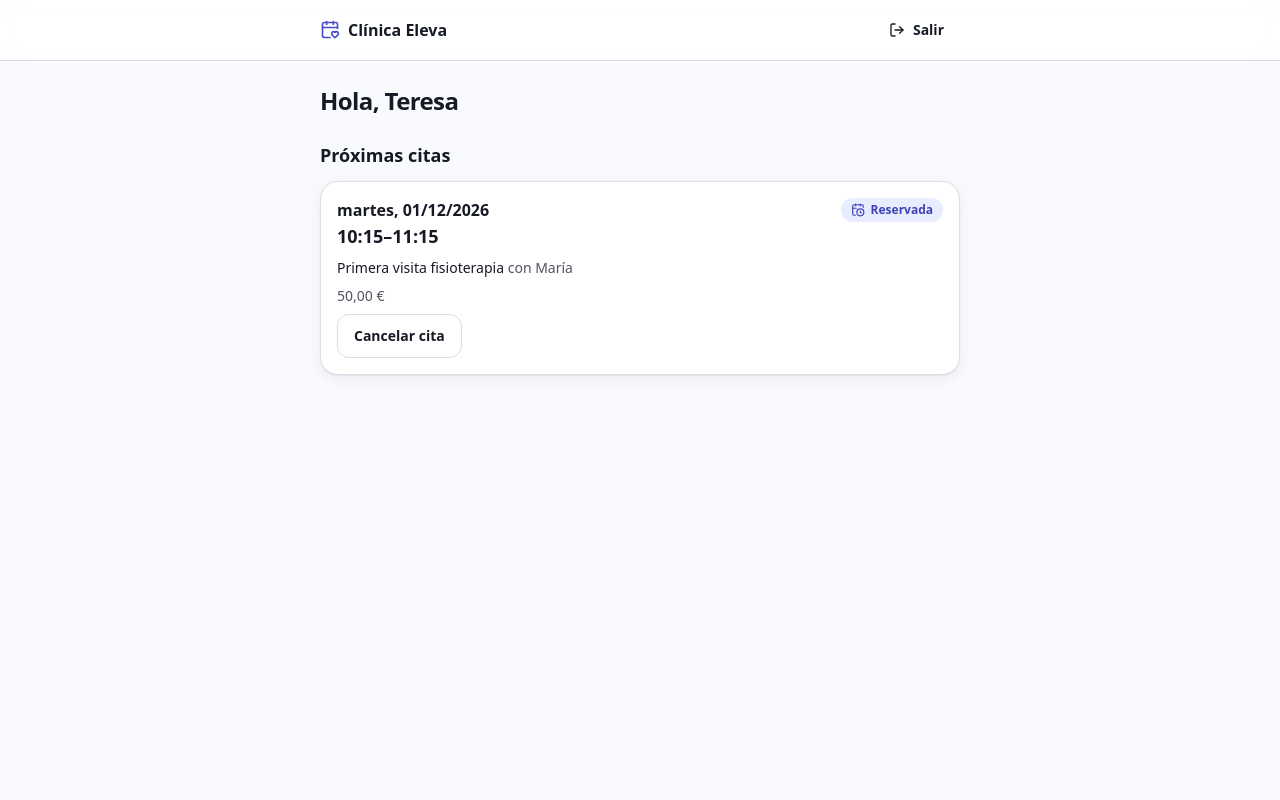
Test: AppPortal › [002][US1-AC6] «Salir» cierra la sesión del portal y vuelve a la entrada
Click the button "Salir" at (916, 30), box [873,8,960,52]
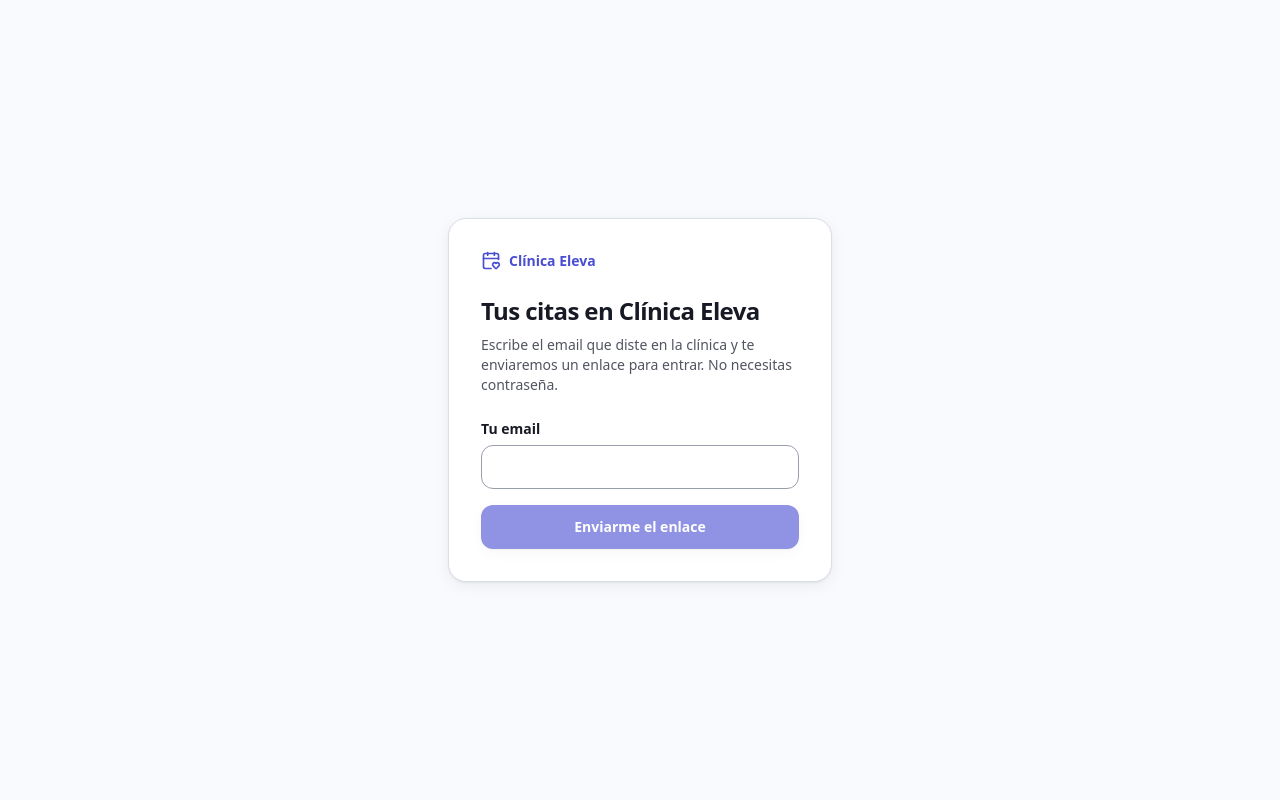
Check: the field labelled "Tu email" is shown, box [481,445,799,489]
